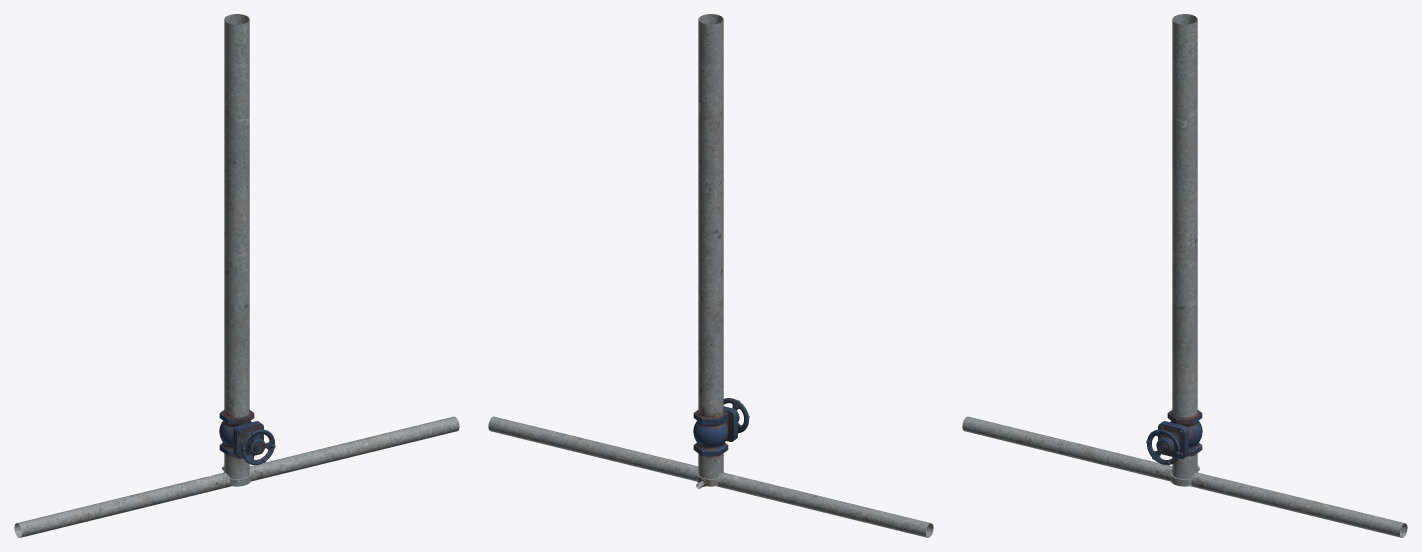
Rendered from pipes_kit.glb.
3 renders of one model, left to right at view 1: azimuth 30°, elevation 25°; view 2: azimuth 150°, elevation 25°; view 3: azimuth 330°, elevation 25°, orthographic.
Parts seen in each view (by area): view 1: pipe_200cm_metal, pipe_thin_200cm_metal, pipe_valve_small_1_metal; view 2: pipe_200cm_metal, pipe_thin_200cm_metal, pipe_valve_small_1_metal; view 3: pipe_200cm_metal, pipe_thin_200cm_metal, pipe_valve_small_1_metal.
Part boxes in pixels (left/top/right/bottom): pipe_200cm_metal: left=224, top=14, right=249, bottom=478; pipe_thin_200cm_metal: left=14, top=416, right=459, bottom=537; pipe_valve_small_1_metal: left=219, top=386, right=275, bottom=478; pipe_200cm_metal: left=698, top=14, right=723, bottom=478; pipe_thin_200cm_metal: left=488, top=416, right=933, bottom=537; pipe_valve_small_1_metal: left=693, top=386, right=749, bottom=478; pipe_200cm_metal: left=1172, top=14, right=1197, bottom=478; pipe_thin_200cm_metal: left=962, top=416, right=1407, bottom=537; pipe_valve_small_1_metal: left=1146, top=386, right=1202, bottom=478.
Bounding box in the file's own units: 2 × 2.03 × 0.2824.
Materials: 1 (1 with a texture image).
